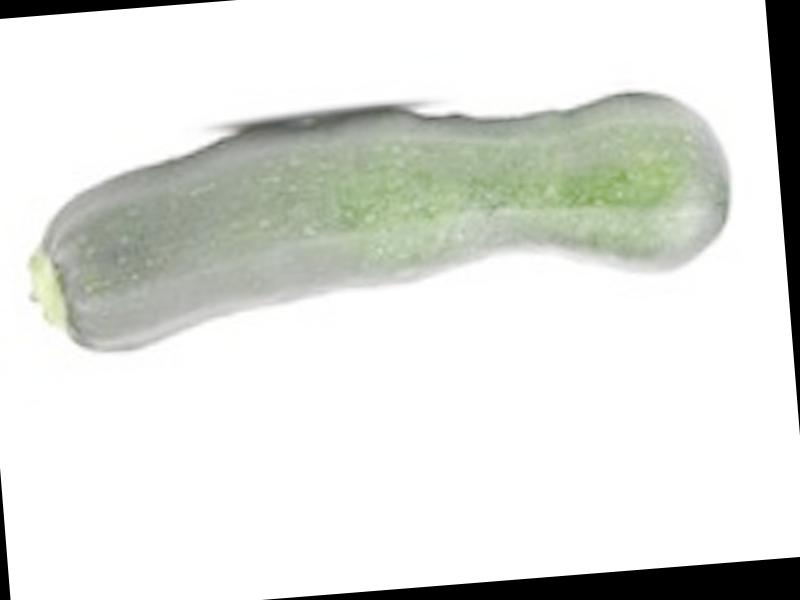Cucumber: (15, 82, 739, 360)
